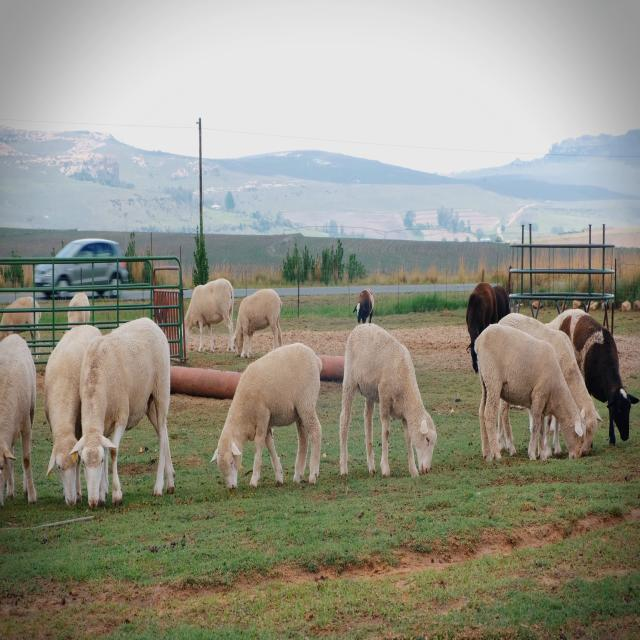sheep: (202, 336, 334, 492), (80, 320, 178, 516), (467, 326, 588, 483), (335, 325, 444, 485), (38, 336, 80, 514)
